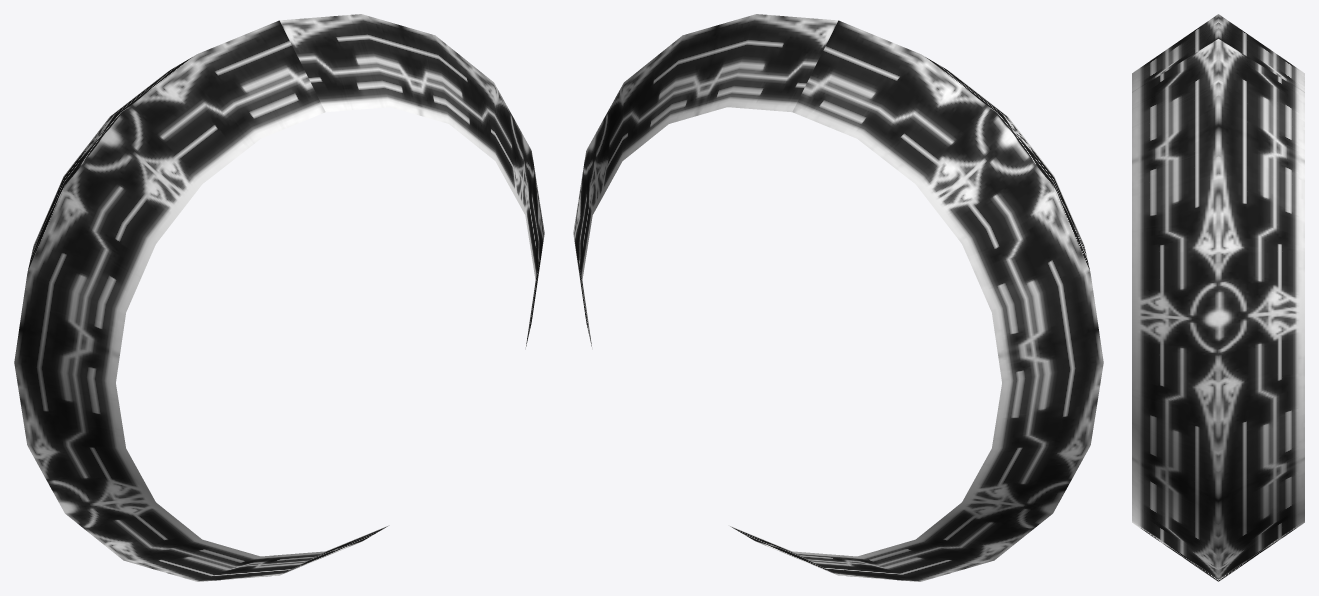
The model's file is elshildring.glb.
3 views of the same model, side by side, from view 1: azimuth 30°, elevation 25°; view 2: azimuth 150°, elevation 25°; view 3: azimuth 270°, elevation 25° (orthographic). The views are drawn at different scales.
Visible parts, largest first — view 1: model_elshildring; view 2: model_elshildring; view 3: model_elshildring.
Part boxes in pixels (<box>): model_elshildring: <box>14,14,544,581</box>; model_elshildring: <box>573,14,1103,581</box>; model_elshildring: <box>1132,14,1304,581</box>.
Size of the model in its own units: 2 by 2 by 0.6034.
Materials: 1 (1 with a texture image).
